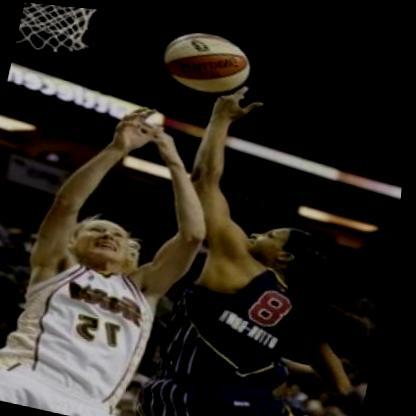basketball: (150, 12, 262, 101)
